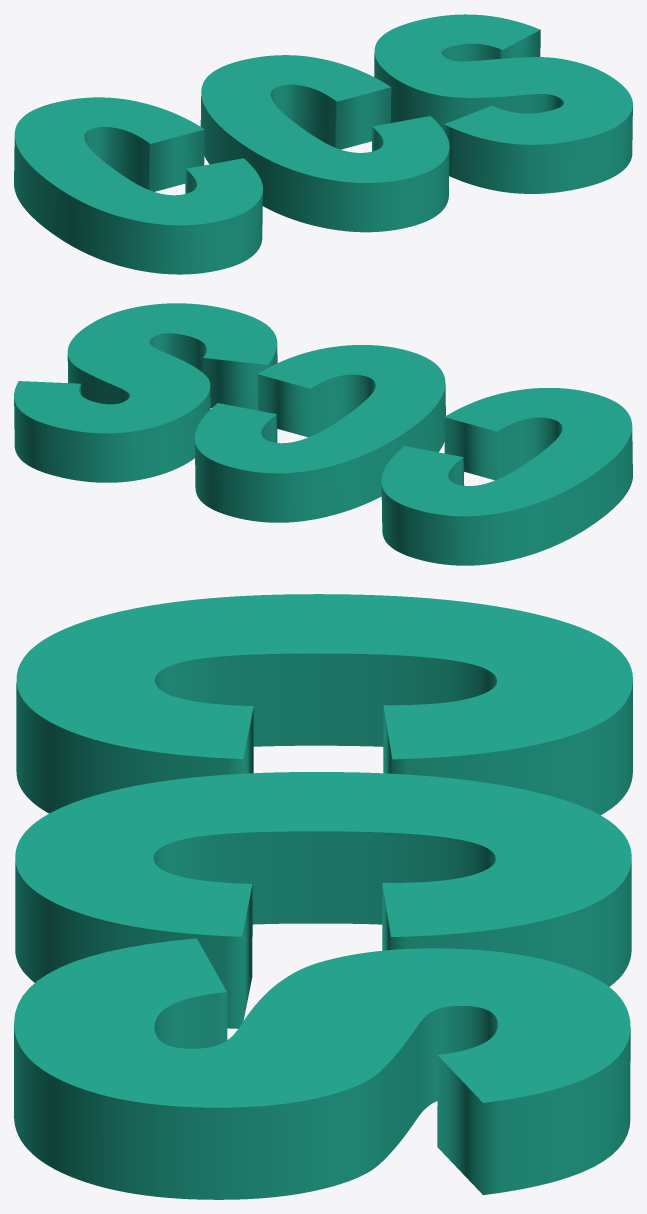
The model's file is ccs(1).glb.
The picture shows the model from 3 angles, top to bottom: view 1: azimuth 30°, elevation 25°; view 2: azimuth 150°, elevation 25°; view 3: azimuth 270°, elevation 25°; orthographic projection. The views are drawn at different scales.
Visible parts, largest first — view 1: Text.001; view 2: Text.001; view 3: Text.001.
Boxes of the visible parts, x1,y1,x2,y2 form: Text.001: (14,14,632,274); Text.001: (14,303,632,565); Text.001: (14,594,632,1199).
Bounding box in the file's own units: 3.45 × 0.3518 × 1.81.
